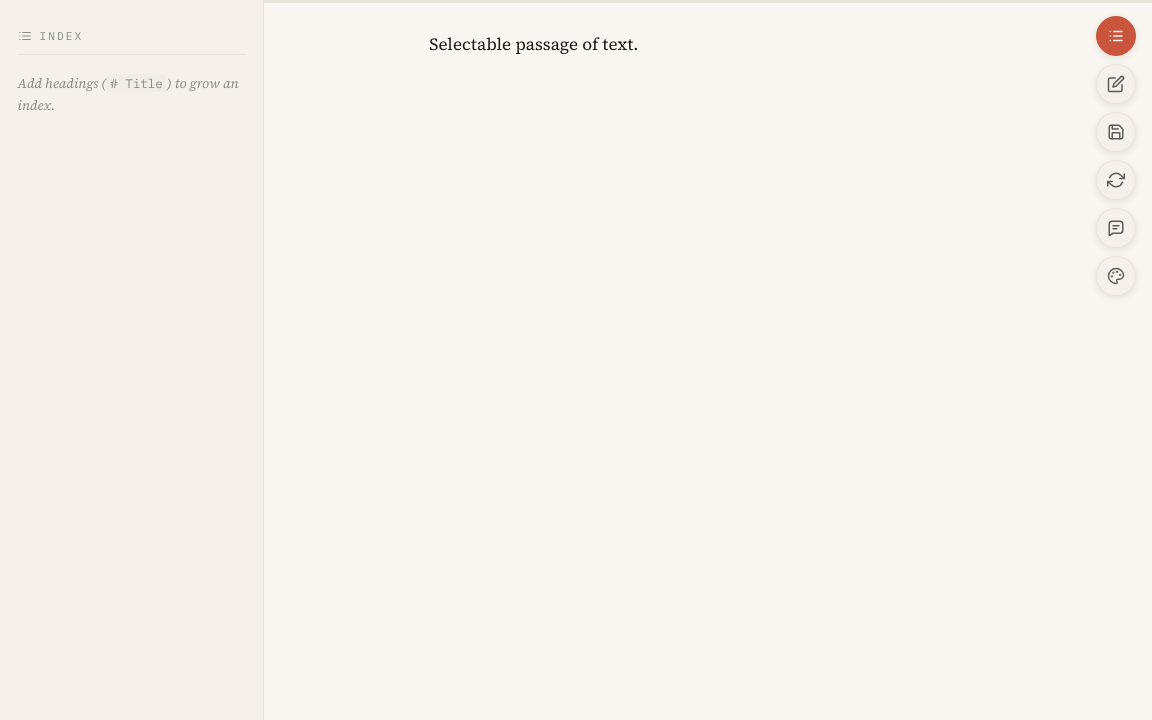
Test: highlight-to-comment mode › closing the pane stops capturing again while the mode is off
This screenshot has width=1152, height=720.
Click the button named "Show comments" at {"x": 1116, "y": 228}, box [1096,208,1136,248]
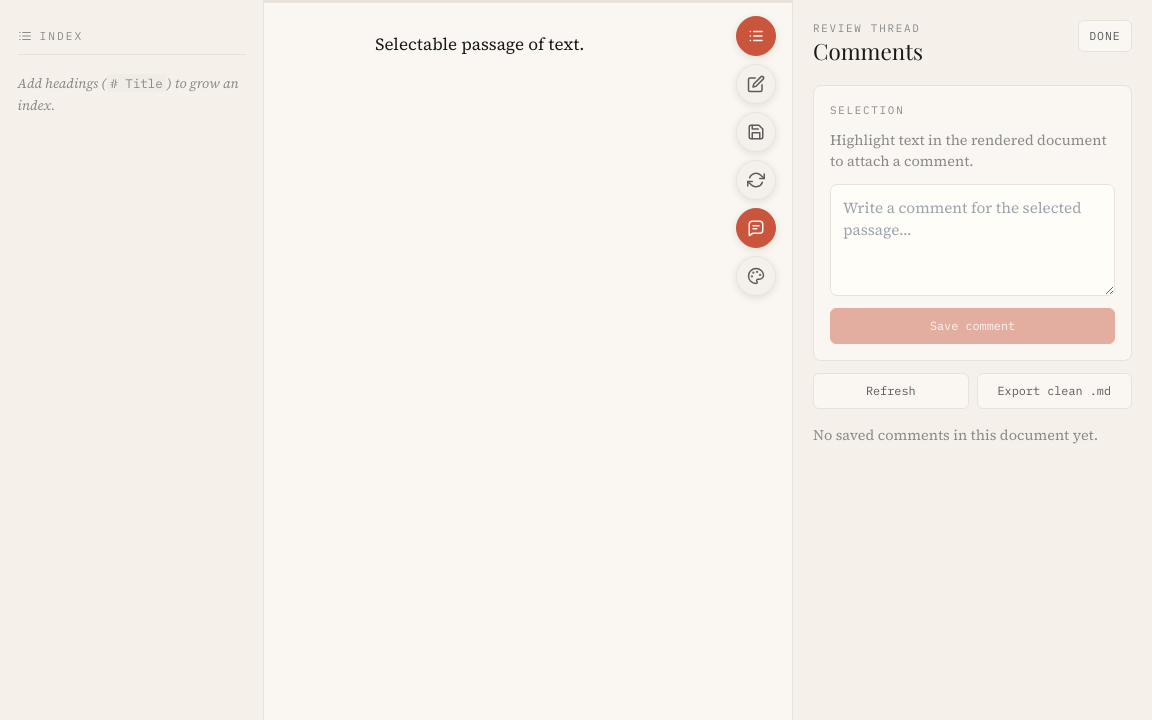
Check: the element "Comments" is shown, box [792,0,1151,719]
Click the button with aria-label "close comments" at {"x": 1105, "y": 36}, box [1078,20,1132,52]
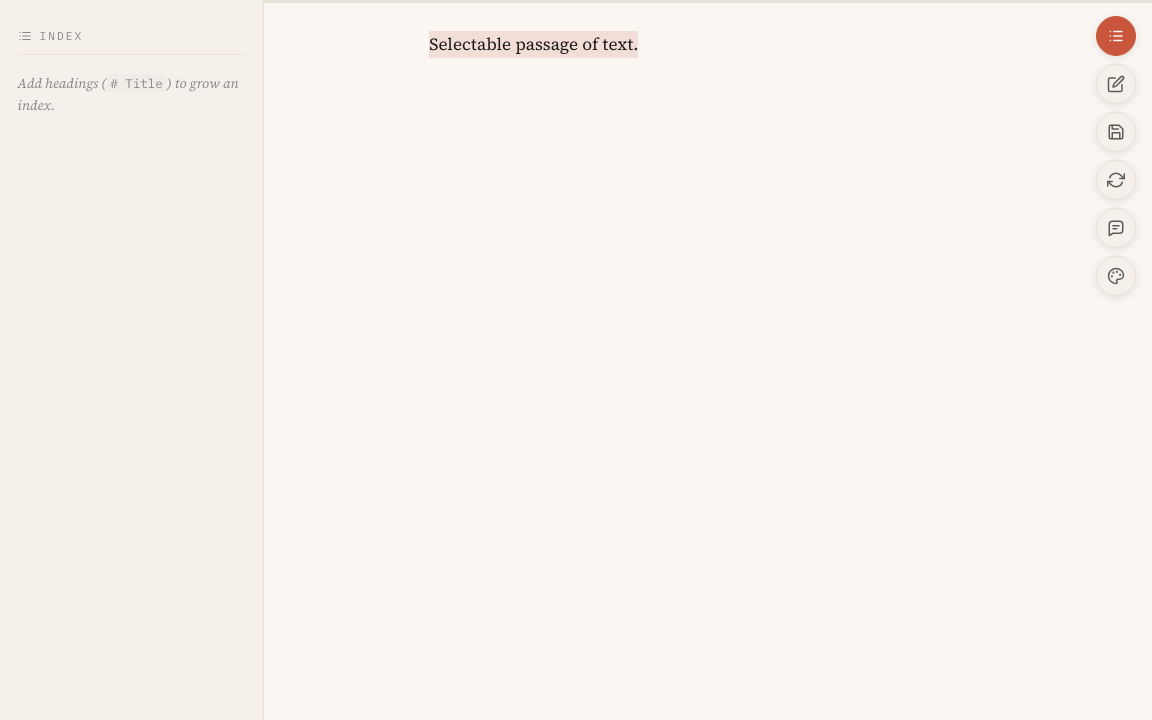
Check: the text "Selectable passage of text." is shown, box [429,32,638,56]
Check: the heading "Comments" is gone
